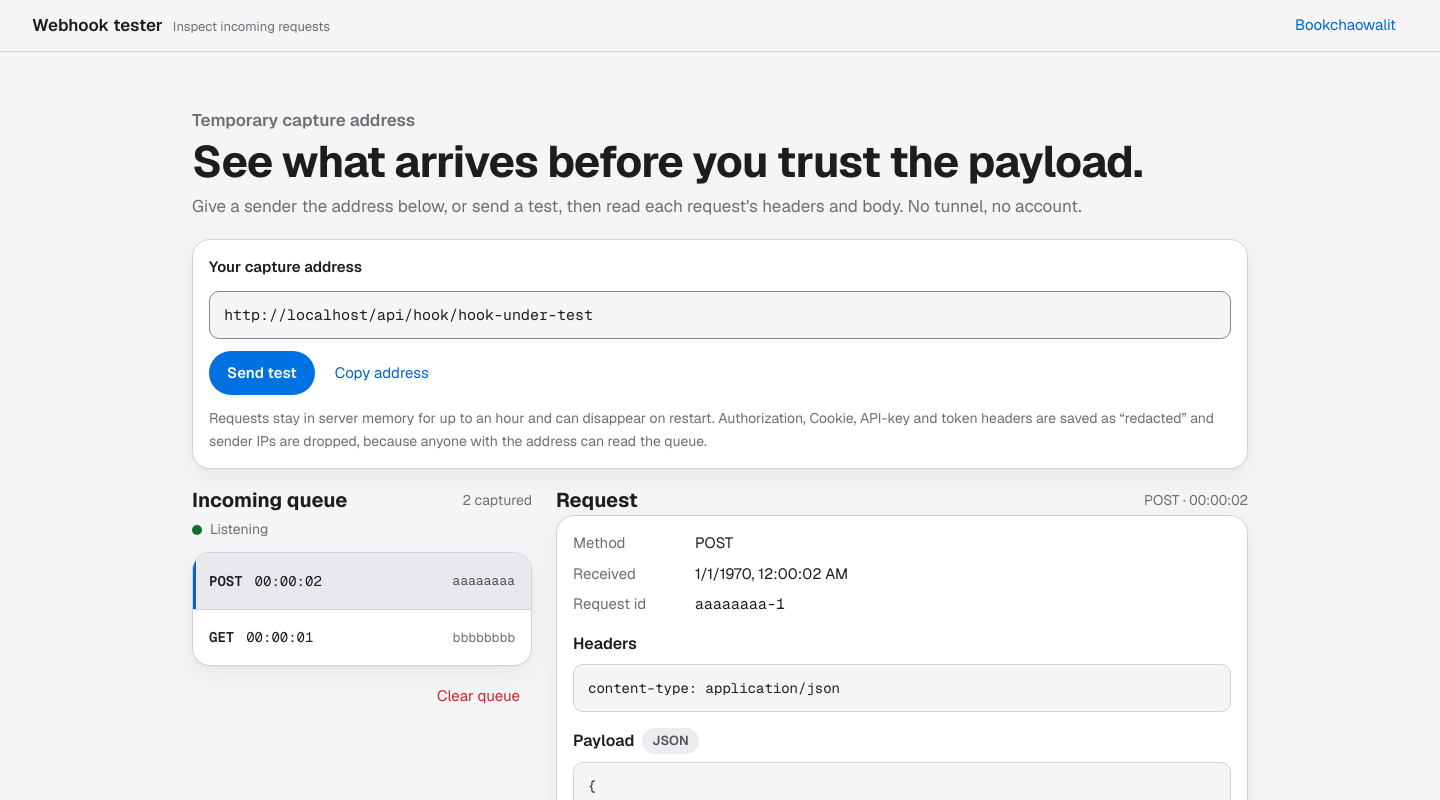
capture desk › sends a test request and shows it on top
The width and height of the screenshot is (1440, 800).
Click the button "Send test". click: (262, 373)
box: x1=209 y1=351 x2=315 y2=395
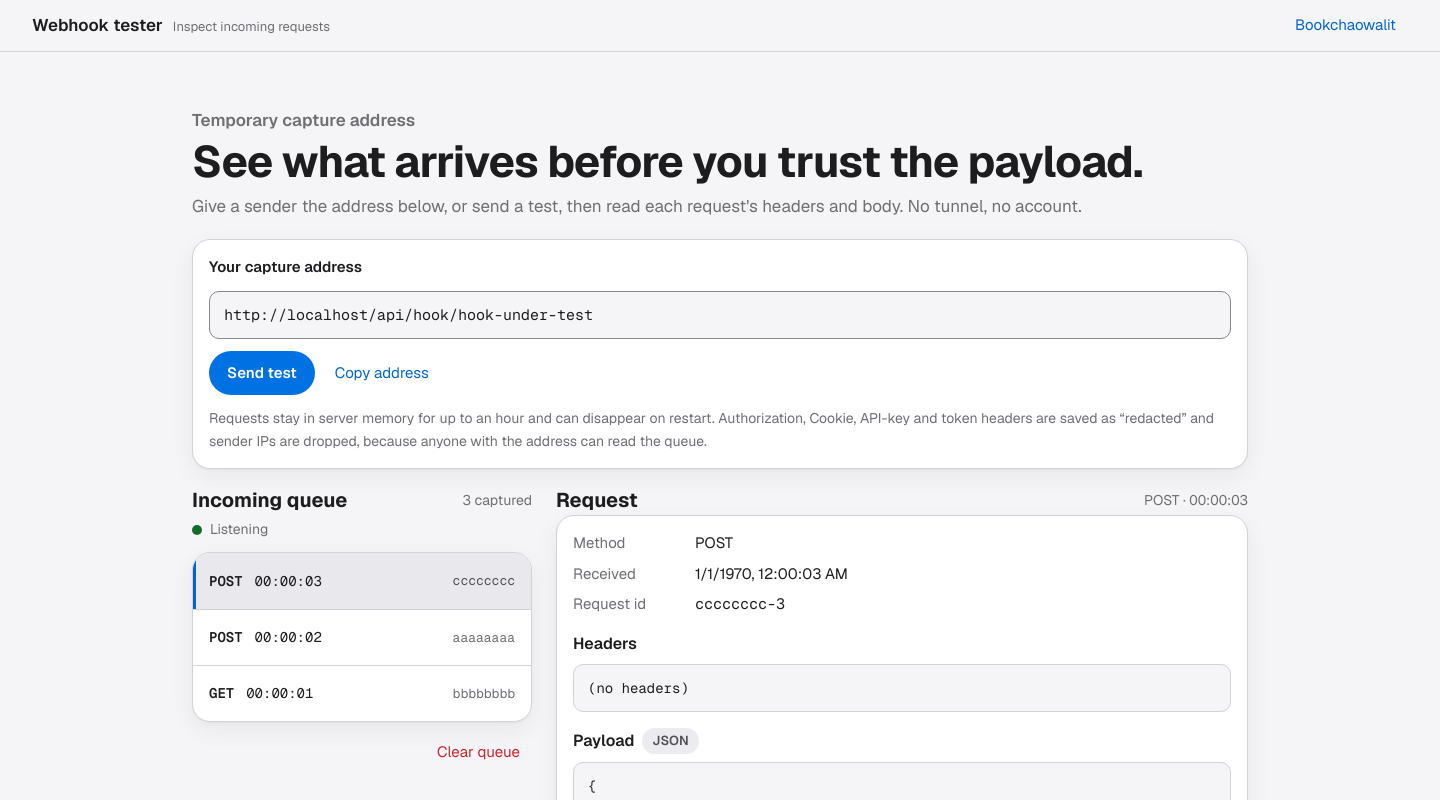
Check: the number of buttons with class "wh-req" is 3, box x1=193 y1=553 x2=531 y2=609; x1=193 y1=609 x2=531 y2=665; x1=193 y1=665 x2=531 y2=721
